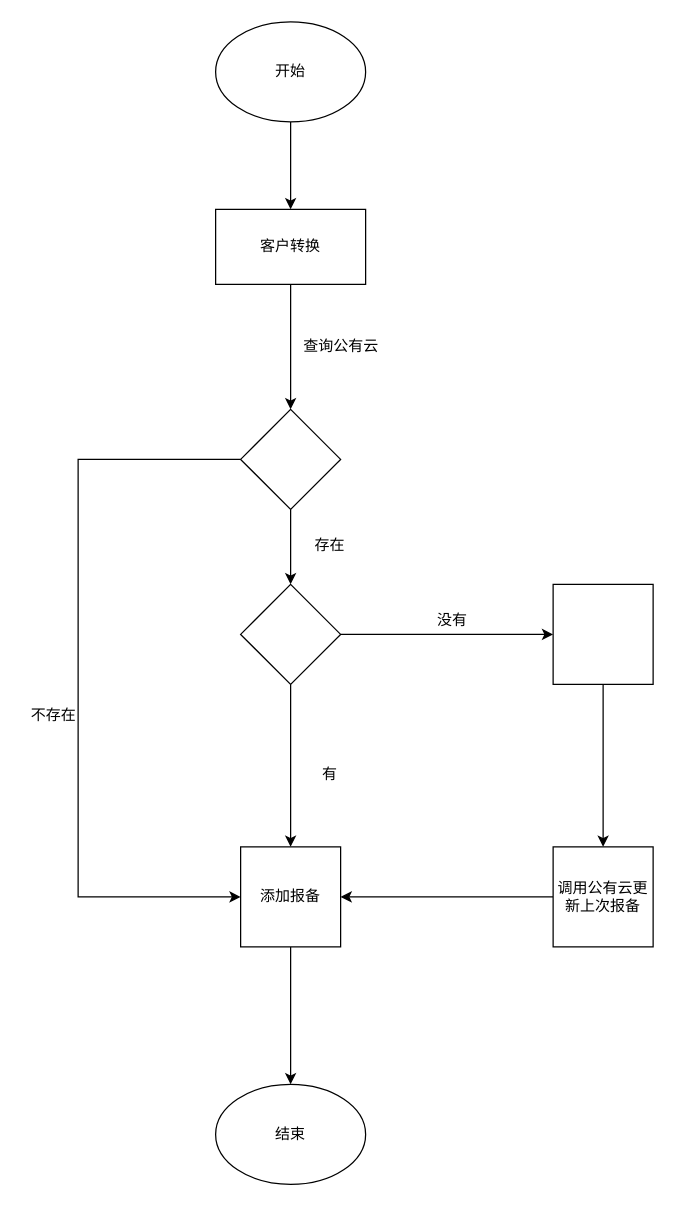
Image size: 675x1206. Some labels were removed from this diagram. The centre of each missing label's shape, as x and y in pixels:
将这次的报备时间作为上次的报备失效时间: point (602, 633)
是否存在客户: point (290, 458)
是否有报备失效时间: point (290, 633)
